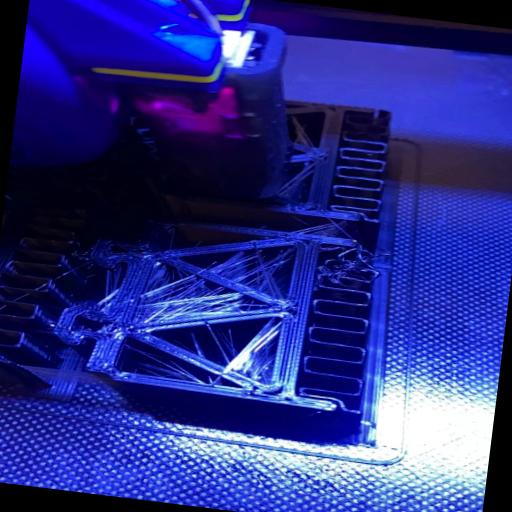stringing: (139, 274, 246, 326), (181, 322, 271, 372), (214, 247, 286, 293)
